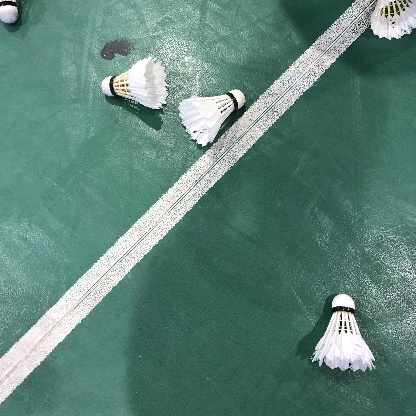ball_single: (312, 294, 375, 372), (178, 89, 245, 147), (102, 56, 169, 109), (370, 0, 416, 40), (0, 0, 18, 24)
